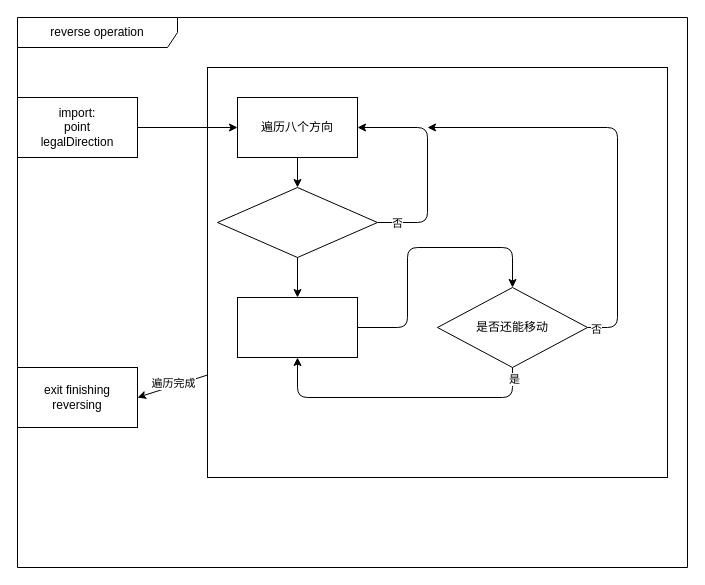
The diagram is 705 pixels wide and 585 high, and some of its shapes have lost their labels. Each missing label, with the centre of its shape:
"方向是否合法" belongs at pixel 297 222.
"移动并翻转" belongs at pixel 297 327.
